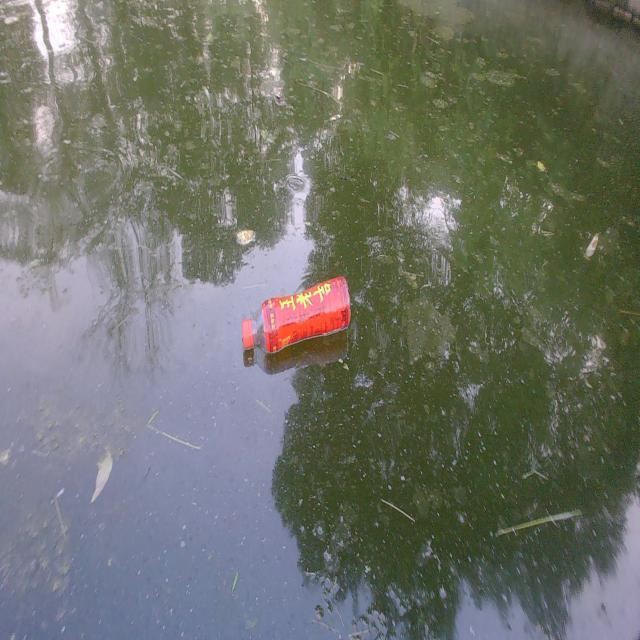bottle: (227, 266, 358, 365)
